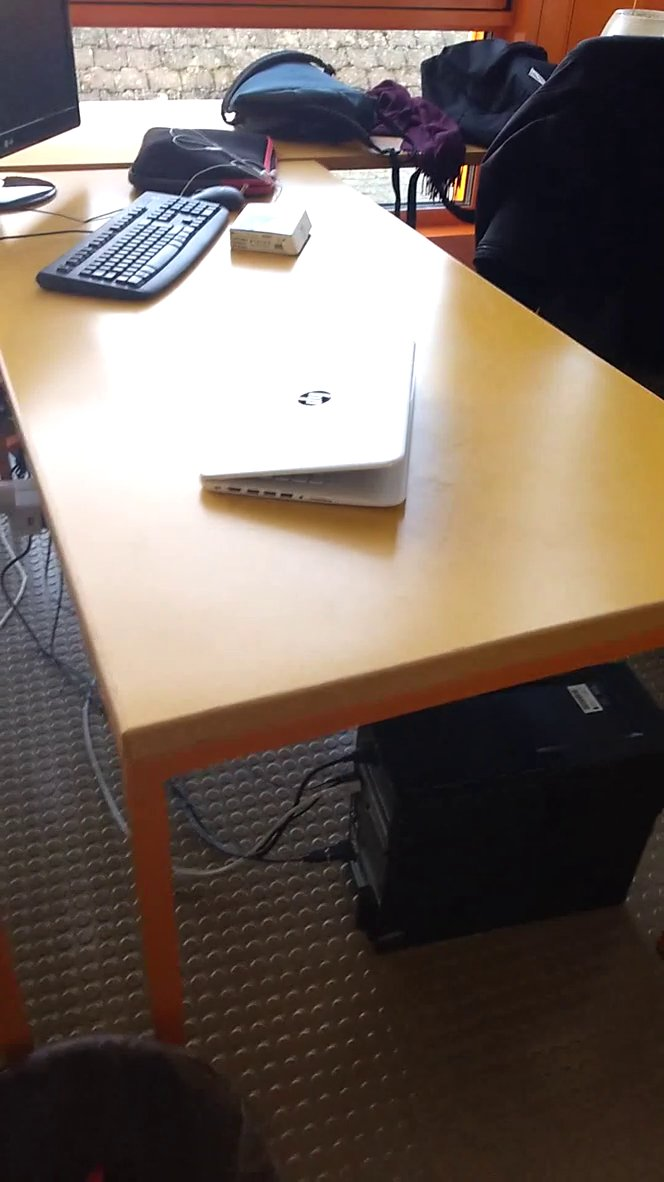bag: (220, 39, 380, 168)
laptop: (191, 325, 460, 542)
